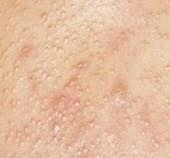whitehead: (47, 61, 87, 148), (13, 6, 76, 52)
